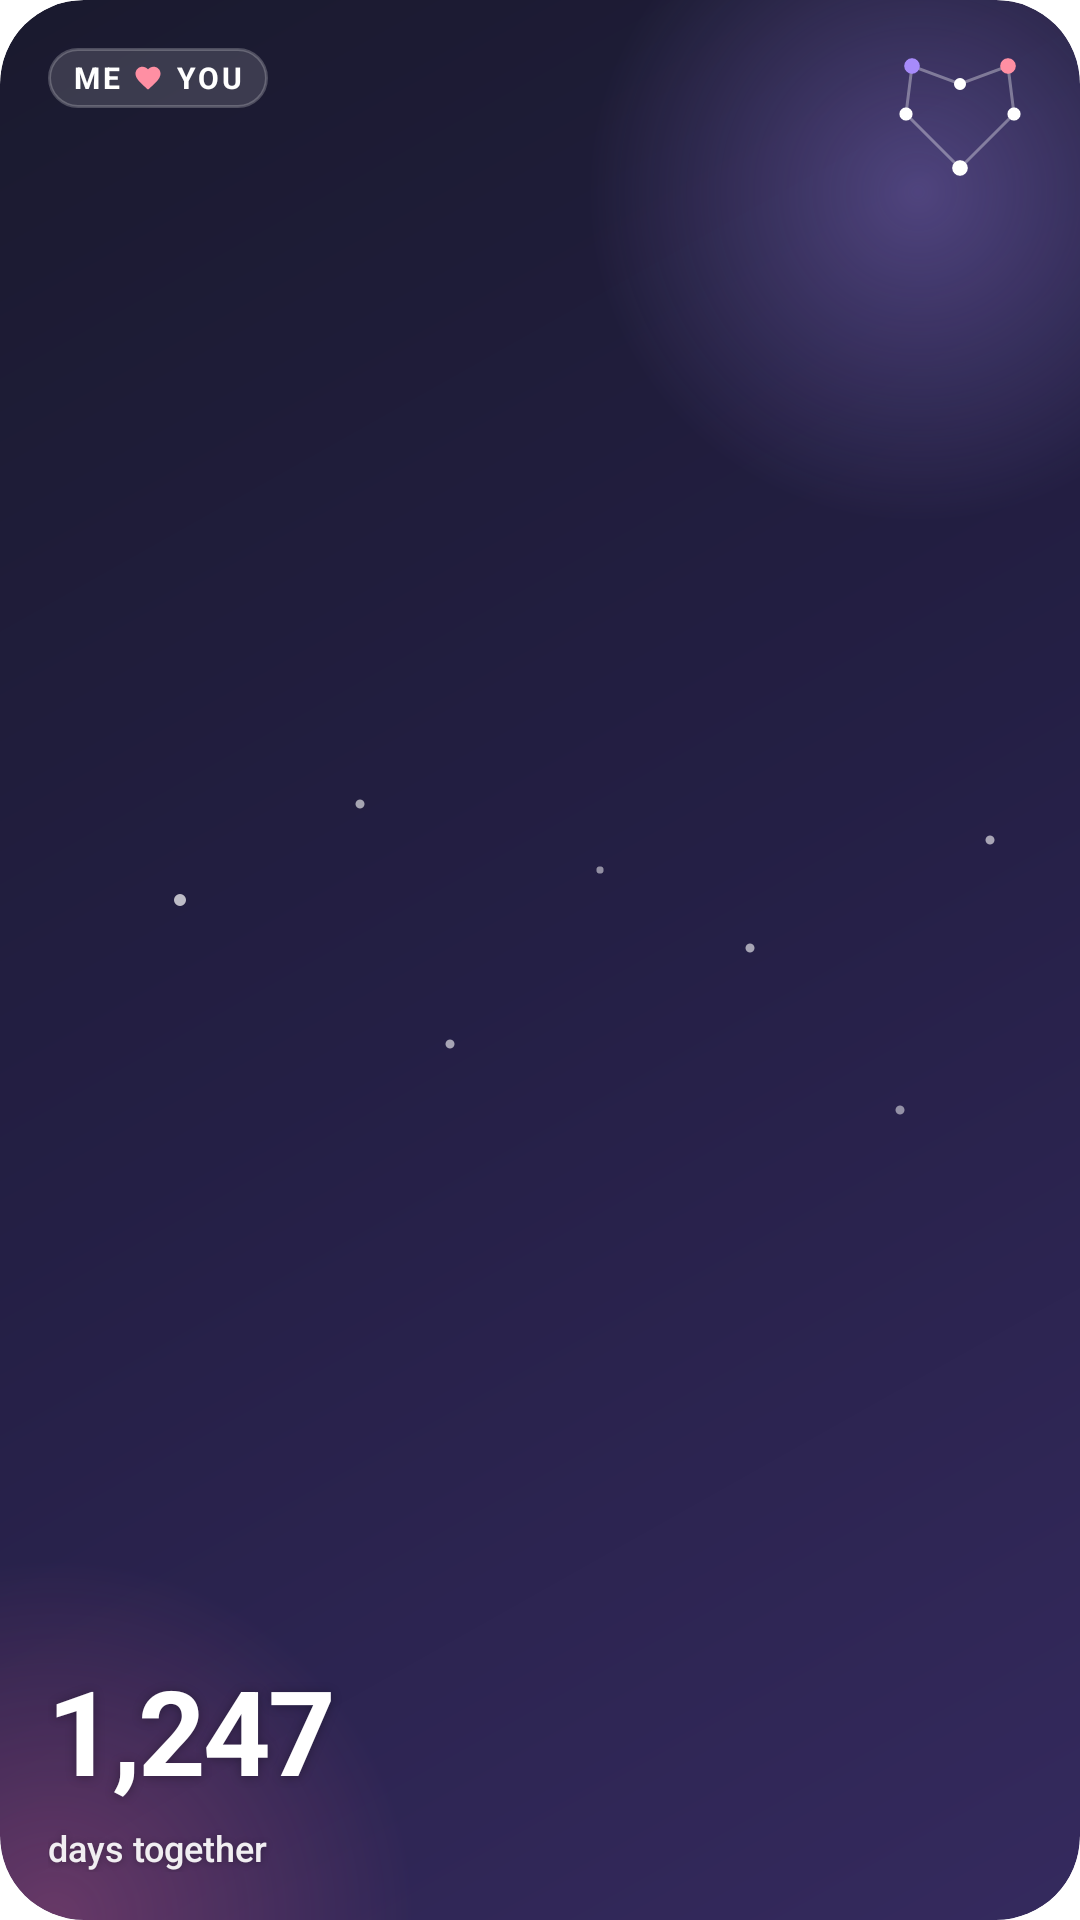

Screen size 1080 x 1920. Icon name, then its center in pixels as (x=x, y=y):
widget constellation: (x=960, y=117)
widget heart: (x=148, y=78)
